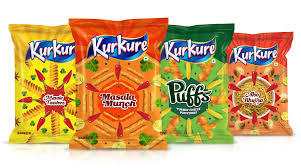kurkure: (86, 34, 148, 59), (160, 38, 216, 60), (25, 39, 79, 61), (229, 45, 277, 63)
plastic: (3, 6, 298, 159)
wrapper: (66, 15, 170, 152), (159, 21, 235, 148), (8, 24, 86, 144), (228, 27, 296, 142)
